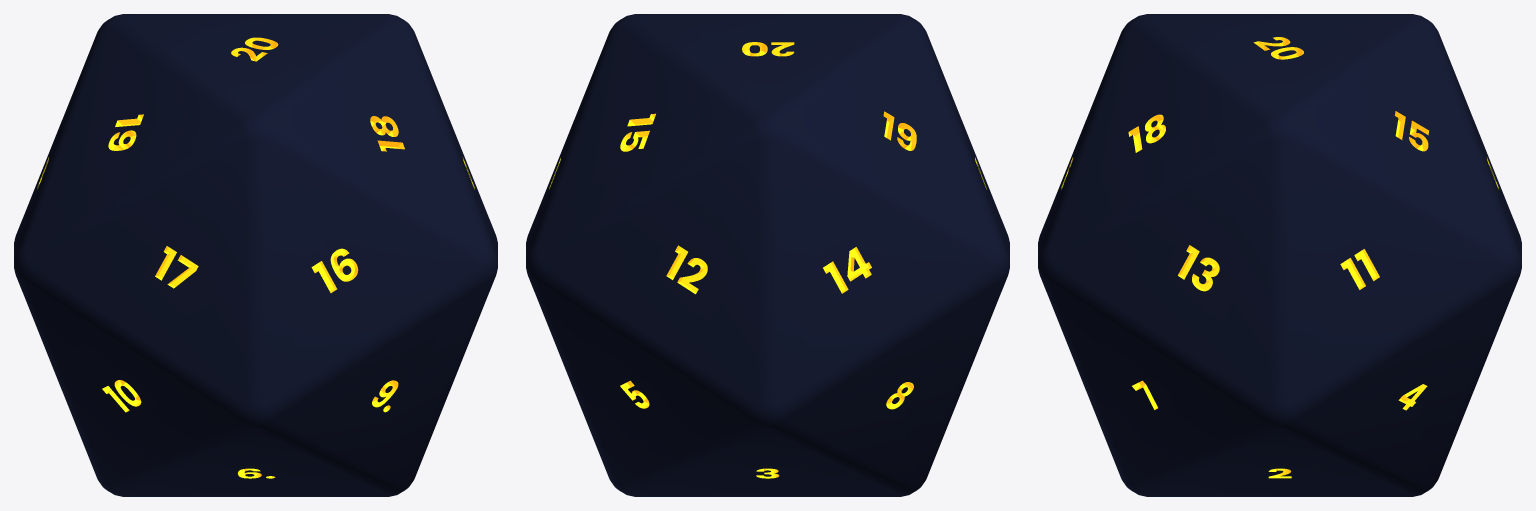
3 renders of one model, left to right at view 1: azimuth 30°, elevation 25°; view 2: azimuth 150°, elevation 25°; view 3: azimuth 270°, elevation 25°, orthographic.
Visible parts, largest first — view 1: MP_D20; view 2: MP_D20; view 3: MP_D20.
Boxes of the visible parts, left/top/right/bottom form: MP_D20: left=14, top=14, right=497, bottom=496; MP_D20: left=526, top=14, right=1009, bottom=496; MP_D20: left=1038, top=14, right=1521, bottom=496.
Bounding box in the file's own units: 1 × 0.831 × 0.8811.
